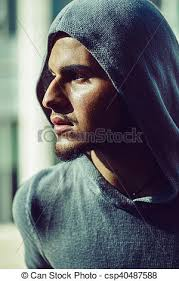middle_eastern_male: (40, 32, 113, 153)
